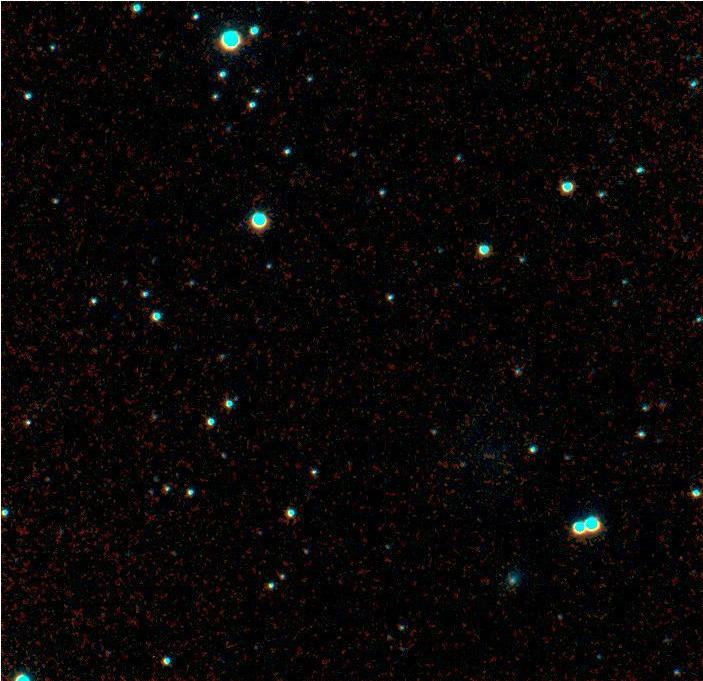star: (311, 114, 341, 144)
